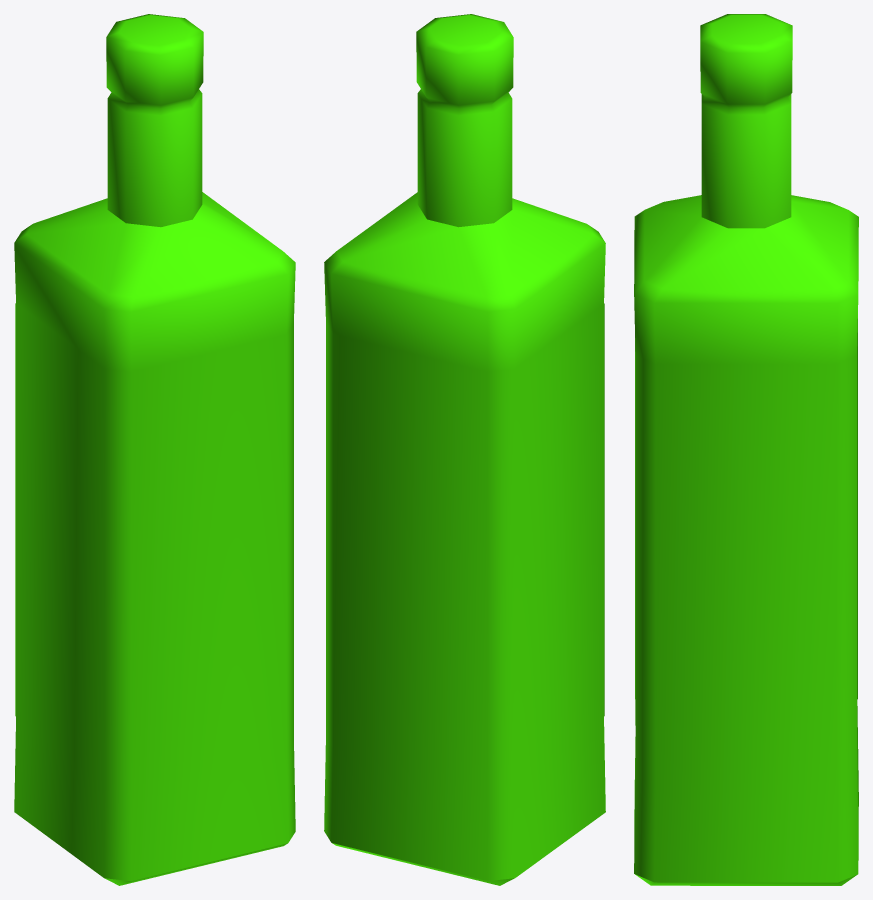
Rendered from 20_gin_beefeater.gltf.
3 renders of one model, left to right at view 1: azimuth 30°, elevation 25°; view 2: azimuth 150°, elevation 25°; view 3: azimuth 270°, elevation 25°, orthographic.
Parts seen in each view (by area): view 1: Beefeater_Atlas_0; view 2: Beefeater_Atlas_0; view 3: Beefeater_Atlas_0, Beefeater_Sprite_Sprites_0.
Boxes of the visible parts, x1=… form: Beefeater_Atlas_0: x1=14, y1=14, x2=295, y2=885; Beefeater_Atlas_0: x1=324, y1=14, x2=605, y2=885; Beefeater_Atlas_0: x1=634, y1=14, x2=858, y2=885; Beefeater_Sprite_Sprites_0: x1=635, y1=319, x2=857, y2=725.
Size of the model in its own units: 7 by 27.93 by 6.98.
2 materials, 2 textured.
